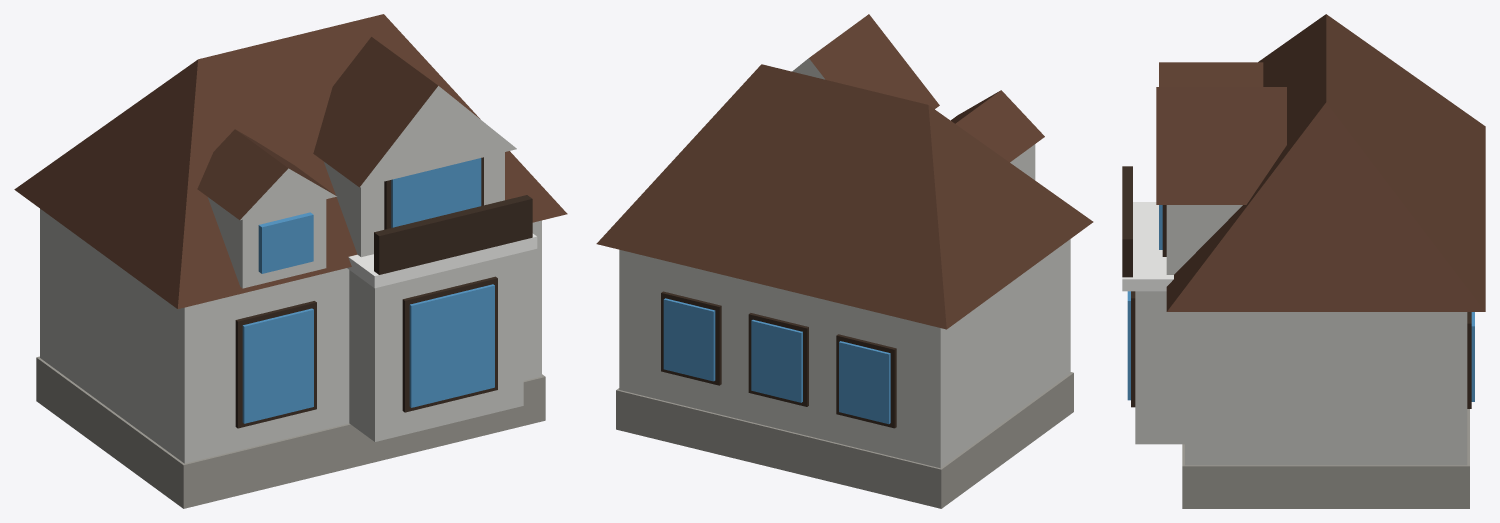
The model's file is 63_polish_bay_villa_3.obj.
3 renders of one model, left to right at view 1: azimuth 30°, elevation 25°; view 2: azimuth 150°, elevation 25°; view 3: azimuth 270°, elevation 25°, orthographic. The views are drawn at different scales.
Parts seen in each view (by area): view 1: 63_polish_bay_villa_3; view 2: 63_polish_bay_villa_3; view 3: 63_polish_bay_villa_3.
Part boxes in pixels (bbox=[...]): 63_polish_bay_villa_3: bbox=[14, 14, 567, 508]; 63_polish_bay_villa_3: bbox=[596, 14, 1093, 508]; 63_polish_bay_villa_3: bbox=[1122, 14, 1485, 508].
Bounding box in the file's own units: 1.68 × 1.54 × 1.39.
